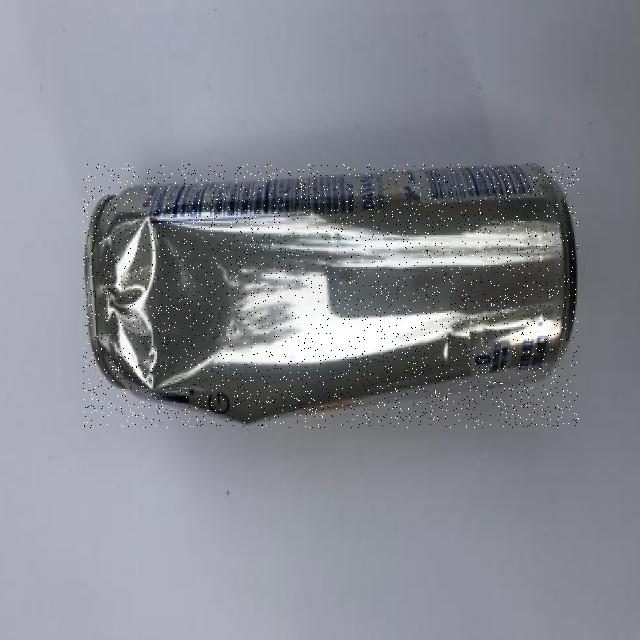metal: (84, 165, 579, 428)
